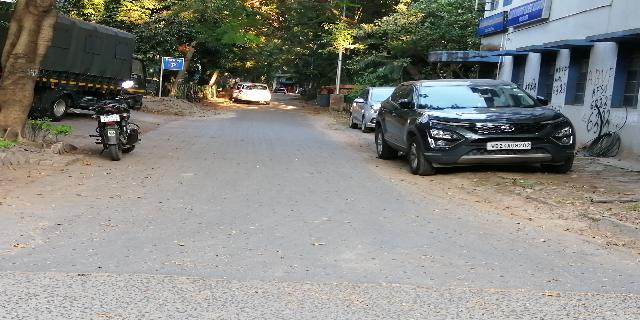Car: (373, 80, 583, 178), (348, 84, 391, 131), (235, 82, 274, 104)
Motorbike: (82, 78, 144, 167)
